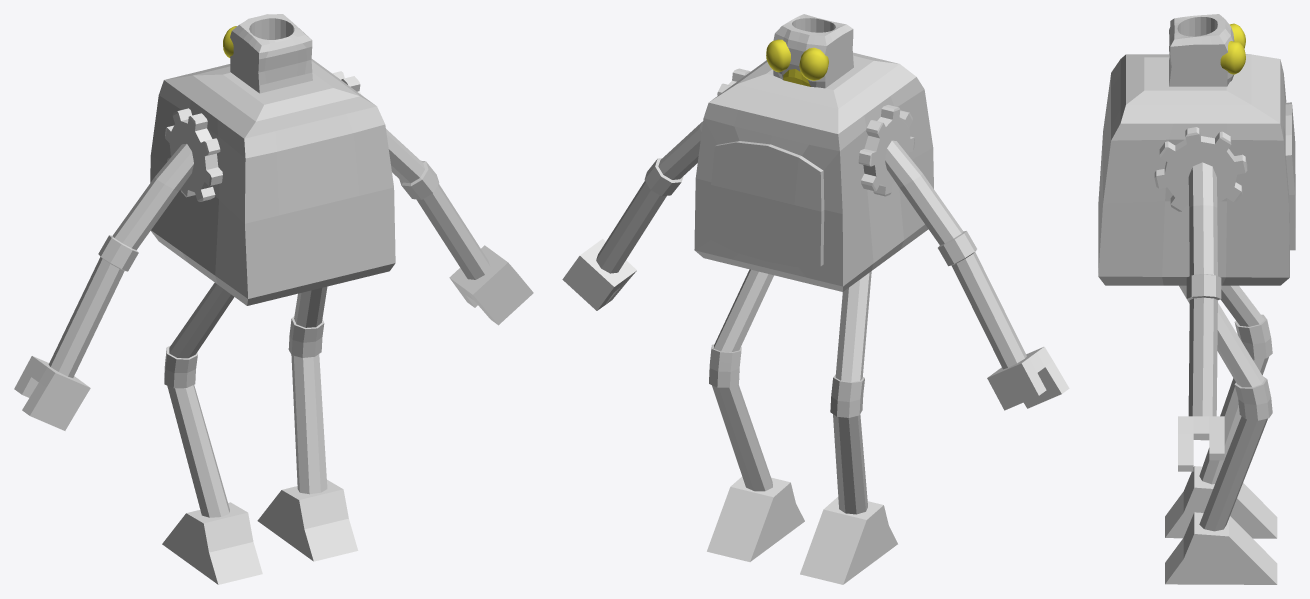
The model's file is player1.fbx.
3 views of the same model, side by side, from view 1: azimuth 30°, elevation 25°; view 2: azimuth 150°, elevation 25°; view 3: azimuth 270°, elevation 25° (orthographic). The views are drawn at different scales.
Visible parts, largest first — view 1: Superior.001, inferior.001, Pes.001, Mãos.002, cabeça.001, Mãos.004, Mãos.003, Mãos.005, Grenagem.001; view 2: Superior.001, inferior.001, Pes.001, Mãos.002, Mãos.004, cabeça.001, Mãos.003, Grenagem.001, Mãos.005, olhos.001; view 3: Superior.001, inferior.001, Pes.001, Mãos.004, Grenagem.002, cabeça.001, Mãos.005, olhos.001.
Part boxes in pixels (left/top/right/bottom): Superior.001: left=150, top=59, right=395, bottom=305; inferior.001: left=164, top=283, right=327, bottom=517; Pes.001: left=162, top=480, right=358, bottom=584; Mãos.002: left=48, top=143, right=193, bottom=377; cabeça.001: left=230, top=14, right=312, bottom=93; Mãos.004: left=386, top=129, right=490, bottom=279; Mãos.003: left=14, top=356, right=90, bottom=430; Mãos.005: left=449, top=245, right=533, bottom=325; Grenagem.001: left=165, top=108, right=222, bottom=201; Superior.001: left=694, top=52, right=933, bottom=291; inferior.001: left=709, top=269, right=871, bottom=514; Pes.001: left=707, top=476, right=897, bottom=584; Mãos.002: left=885, top=140, right=1026, bottom=369; Mãos.004: left=596, top=121, right=702, bottom=273; cabeça.001: left=773, top=14, right=853, bottom=88; Mãos.003: left=987, top=346, right=1069, bottom=410; Grenagem.001: left=858, top=105, right=914, bottom=196; Mãos.005: left=562, top=239, right=636, bottom=310; olhos.001: left=766, top=39, right=828, bottom=80; Superior.001: left=1098, top=54, right=1295, bottom=285; inferior.001: left=1179, top=285, right=1272, bottom=531; Pes.001: left=1165, top=466, right=1277, bottom=584; Mãos.004: left=1186, top=162, right=1221, bottom=416; Grenagem.002: left=1154, top=127, right=1247, bottom=211; cabeça.001: left=1169, top=14, right=1234, bottom=86; Mãos.005: left=1178, top=416, right=1224, bottom=471; olhos.001: left=1220, top=23, right=1245, bottom=74.
Size of the model in its own units: 199 by 200 by 68.
